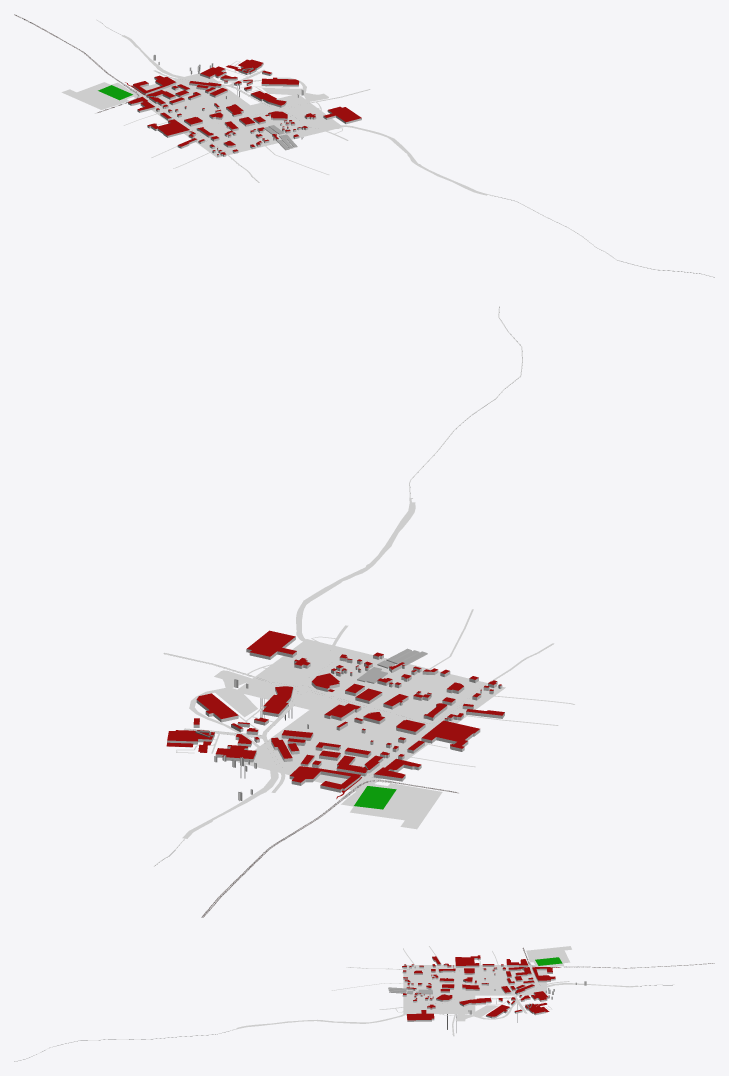
3 views of the same model, one above another, from view 1: azimuth 30°, elevation 25°; view 2: azimuth 150°, elevation 25°; view 3: azimuth 270°, elevation 25° (orthographic). The views are drawn at different scales.
Visible parts, largest first — view 1: SurfaceArea456, SurfaceArea457, SurfaceArea458, SurfaceArea_Sportzentrum_des_Steirischen_Fußballverbandes, Water441, Road_Puchstraße, Water407, Building387; view 2: SurfaceArea456, SurfaceArea457, SurfaceArea458, SurfaceArea_Sportzentrum_des_Steirischen_Fußballverbandes, Water441, Water407, Building387, Building394, SurfaceArea425, Road_Puchstraße; view 3: SurfaceArea456, SurfaceArea457, SurfaceArea458, SurfaceArea_Sportzentrum_des_Steirischen_Fußballverbandes, Water441, Water407, Road_Puchstraße, Building387, Waterway_Mühlgang, Building394, SurfaceArea425.
Part boxes in pixels (x1=…): SurfaceArea456: x1=182, y1=105, x2=293, y2=157; SurfaceArea457: x1=130, y1=73, x2=249, y2=121; SurfaceArea458: x1=251, y1=95, x2=343, y2=137; SurfaceArea_Sportzentrum_des_Steirischen_Fußballverbandes: x1=61, y1=82, x2=135, y2=109; Water441: x1=300, y1=92, x2=493, y2=196; Road_Puchstraße: x1=153, y1=70, x2=348, y2=140; Water407: x1=122, y1=35, x2=306, y2=92; Building387: x1=147, y1=119, x2=189, y2=137; SurfaceArea456: x1=310, y1=658, x2=505, y2=736; SurfaceArea457: x1=238, y1=710, x2=429, y2=791; SurfaceArea458: x1=237, y1=639, x2=377, y2=709; SurfaceArea_Sportzentrum_des_Steirischen_Fußballverbandes: x1=341, y1=783, x2=442, y2=829; Water441: x1=226, y1=498, x2=415, y2=689; Water407: x1=182, y1=688, x2=278, y2=838; Building387: x1=421, y1=720, x2=480, y2=751; Building394: x1=246, y1=630, x2=296, y2=659; SurfaceArea425: x1=329, y1=720, x2=416, y2=745; Road_Puchstraße: x1=220, y1=625, x2=348, y2=792; SurfaceArea456: x1=403, y1=965, x2=475, y2=995; SurfaceArea457: x1=475, y1=965, x2=547, y2=995; SurfaceArea458: x1=403, y1=995, x2=475, y2=1013; SurfaceArea_Sportzentrum_des_Steirischen_Fußballverbandes: x1=526, y1=946, x2=571, y2=966; Water441: x1=232, y1=1003, x2=474, y2=1029; Water407: x1=474, y1=983, x2=638, y2=1019; Road_Puchstraße: x1=379, y1=981, x2=569, y2=1016; Building387: x1=455, y1=955, x2=480, y2=967; Waterway_Mühlgang: x1=14, y1=984, x2=674, y2=1061; Building394: x1=406, y1=1010, x2=434, y2=1021; SurfaceArea425: x1=474, y1=969, x2=495, y2=985.
Size of the model in its own units: 1142 by 2921 by 119.
